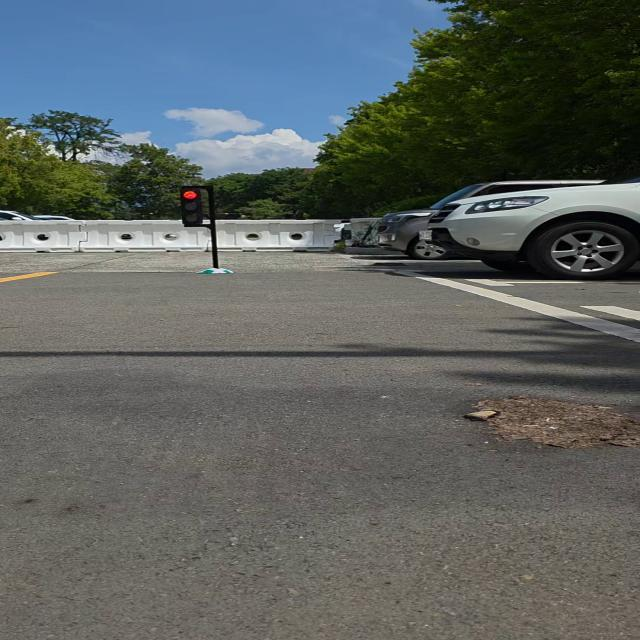red: (177, 186, 211, 228)
